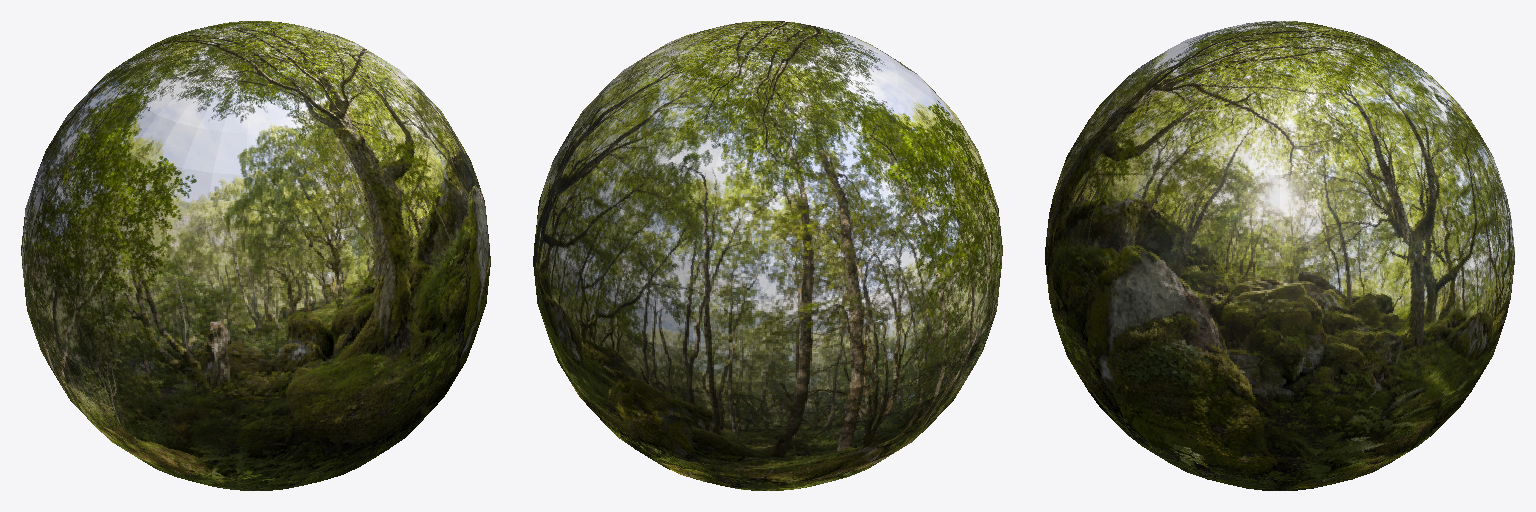
3 renders of one model, left to right at view 1: azimuth 30°, elevation 25°; view 2: azimuth 150°, elevation 25°; view 3: azimuth 270°, elevation 25°, orthographic.
Parts seen in each view (by area): view 1: Sphere; view 2: Sphere; view 3: Sphere.
Part boxes in pixels (left/top/right/bottom): Sphere: left=21, top=21, right=490, bottom=490; Sphere: left=533, top=21, right=1002, bottom=490; Sphere: left=1045, top=21, right=1514, bottom=490.
Size of the model in its own units: 2 by 2 by 2.
1 materials, 1 textured.